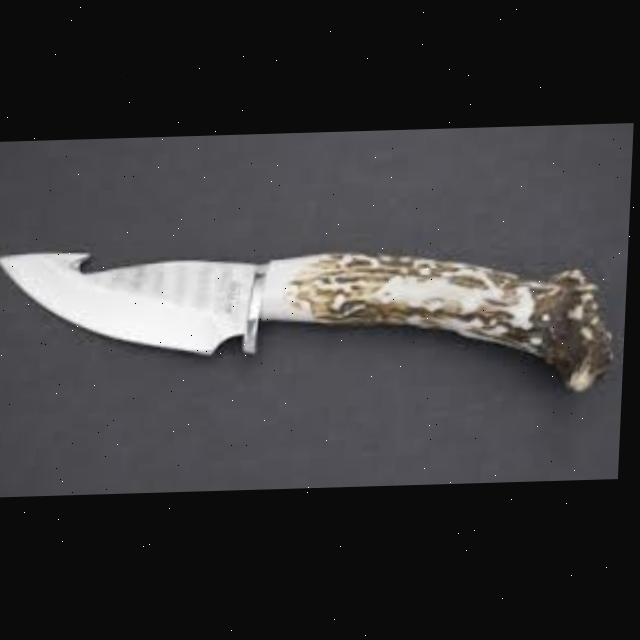Knife: (0, 237, 622, 410)
